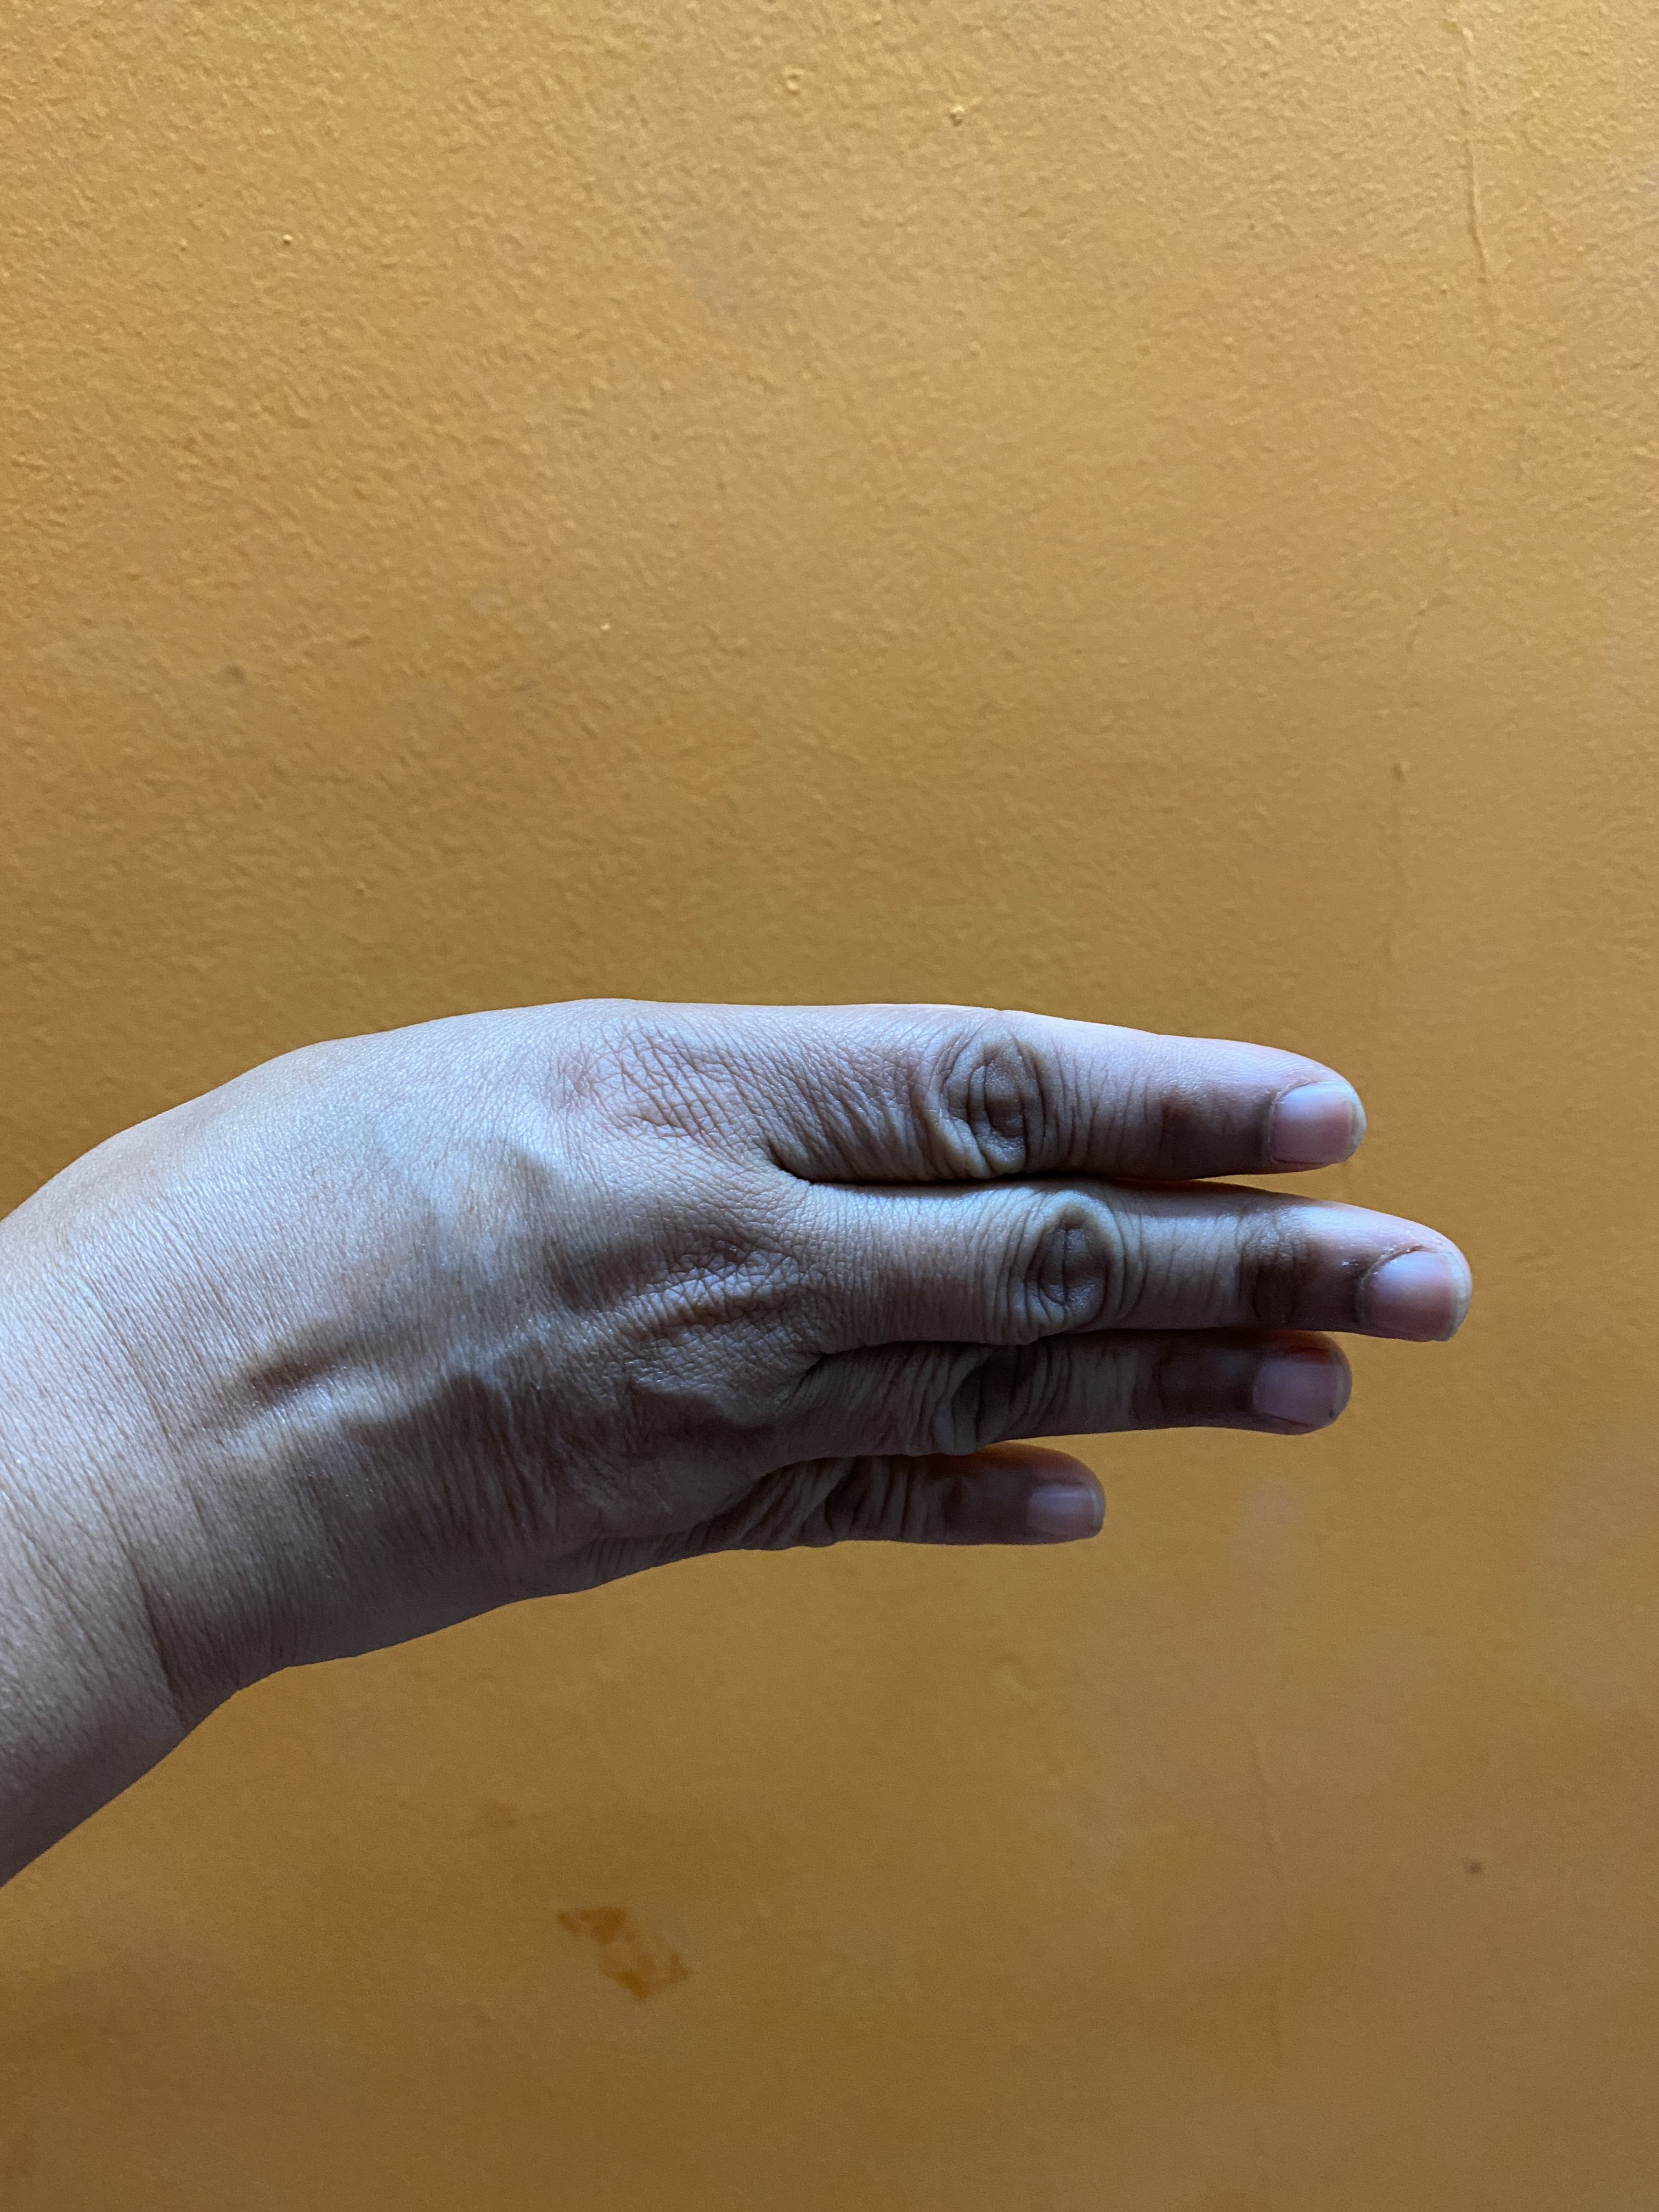left: (14, 906, 1537, 1989)
